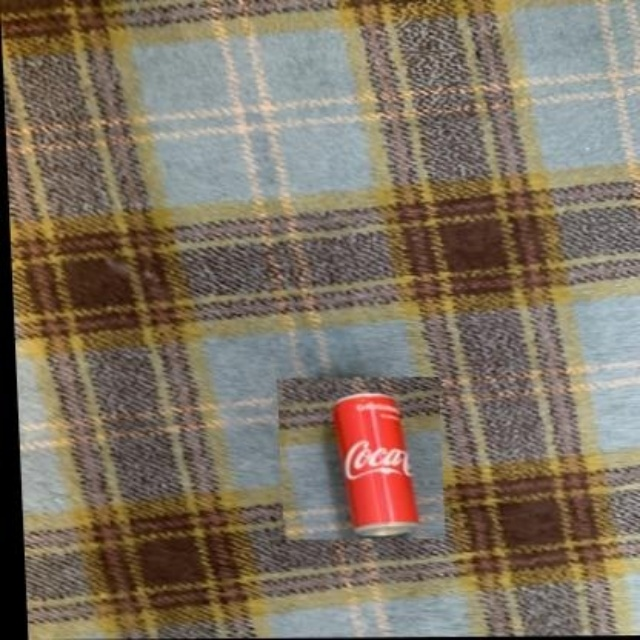trash: (332, 394, 417, 535)
